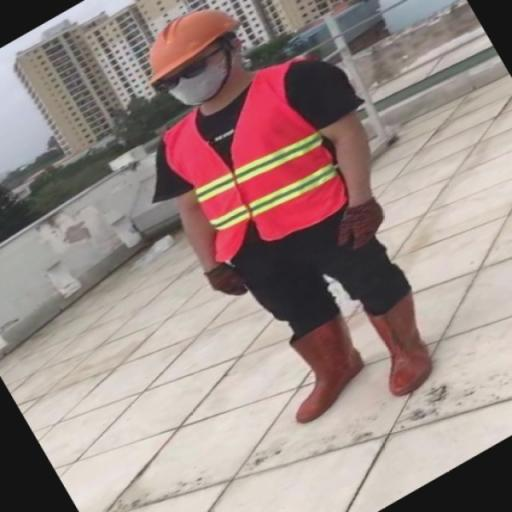Person: (138, 4, 445, 459)
boots: (282, 314, 368, 428), (368, 279, 438, 403)
gloves: (332, 194, 390, 253), (202, 258, 254, 300)
goggles: (150, 47, 234, 94)
helmet: (140, 8, 242, 86)
vest: (152, 53, 350, 273)
